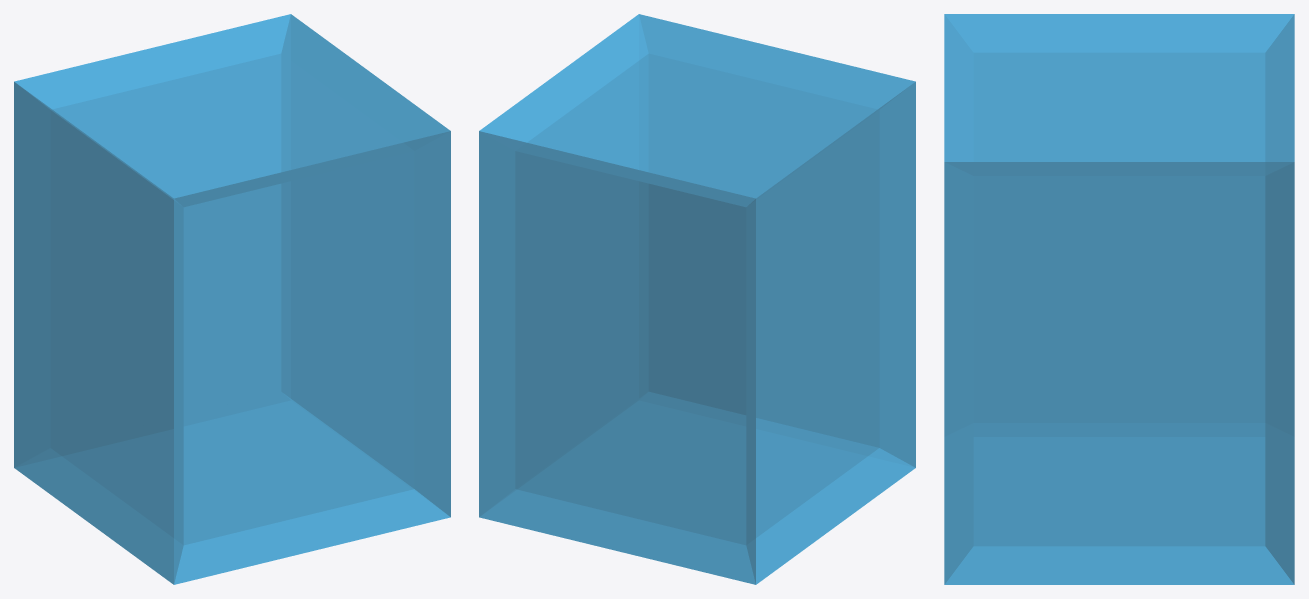
Rendered from MediumCase.fbx.
3 renders of one model, left to right at view 1: azimuth 30°, elevation 25°; view 2: azimuth 150°, elevation 25°; view 3: azimuth 270°, elevation 25°, orthographic. The views are drawn at different scales.
Visible parts, largest first — view 1: GlassCase, GlassDoor; view 2: GlassCase, GlassDoor; view 3: GlassCase, GlassDoor.
Part boxes in pixels (box(x1,y1,x2,y2)): GlassCase: box(14, 14, 450, 584); GlassDoor: box(14, 14, 290, 467); GlassCase: box(479, 14, 915, 584); GlassDoor: box(479, 131, 755, 584); GlassCase: box(944, 14, 1294, 584); GlassDoor: box(1265, 15, 1294, 583).
Size of the model in its own units: 60 by 80 by 60.
